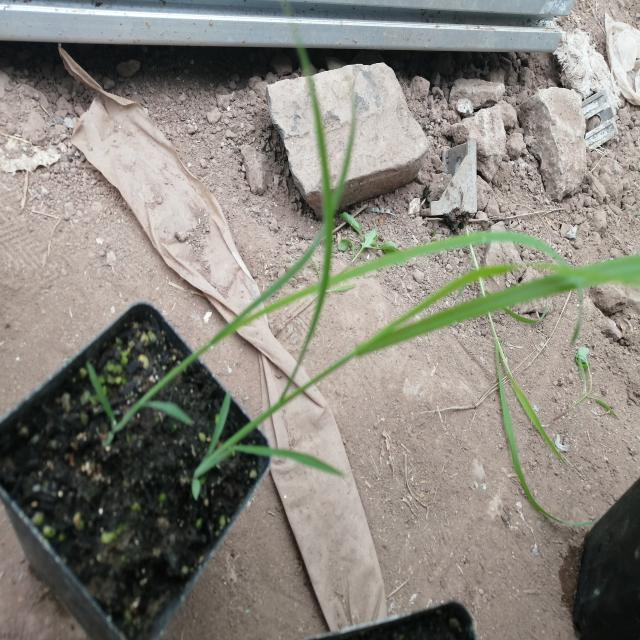crabgrass: (175, 185, 612, 480)
